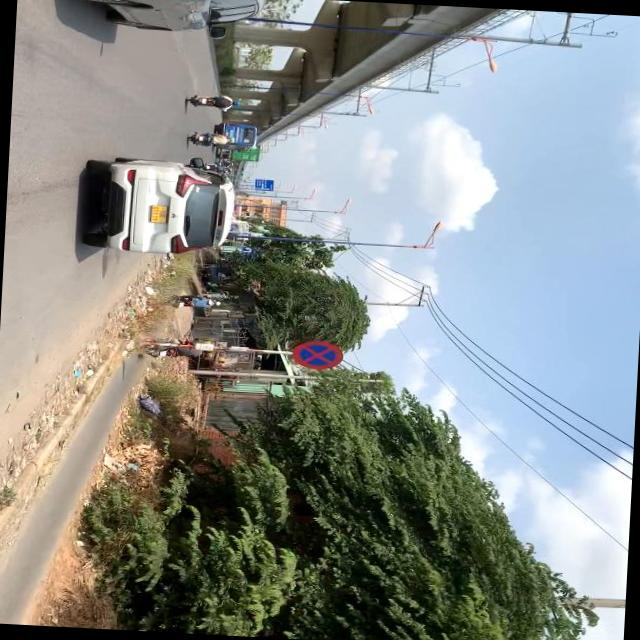P-130: (289, 339, 343, 371)
